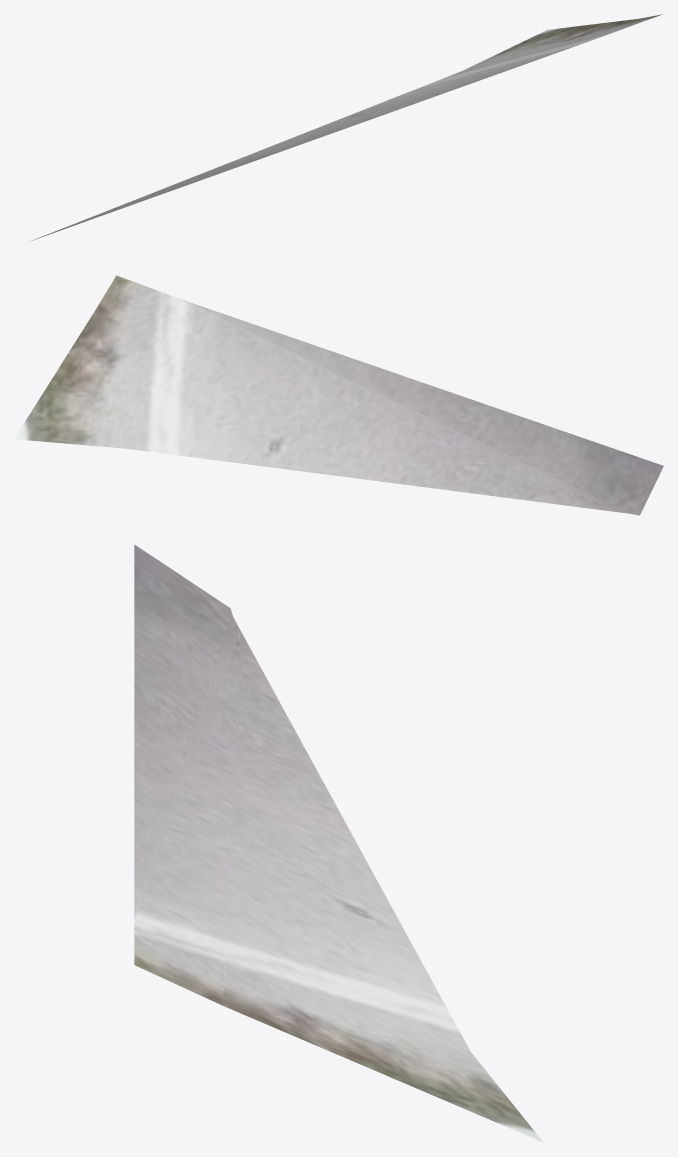
3 views of the same model, one above another, from view 1: azimuth 30°, elevation 25°; view 2: azimuth 150°, elevation 25°; view 3: azimuth 270°, elevation 25° (orthographic). The views are drawn at different scales.
Size of the model in its own units: 2.95 by 0.4573 by 0.9551.
Materials: 1 (1 with a texture image).
